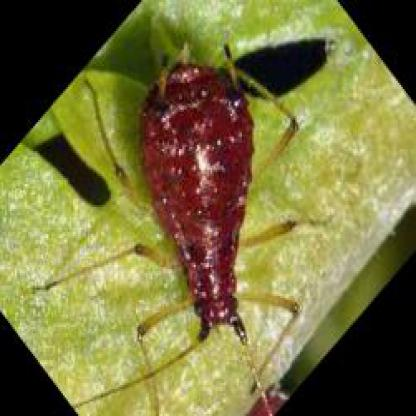uroleucon compositae: (141, 44, 254, 348)
